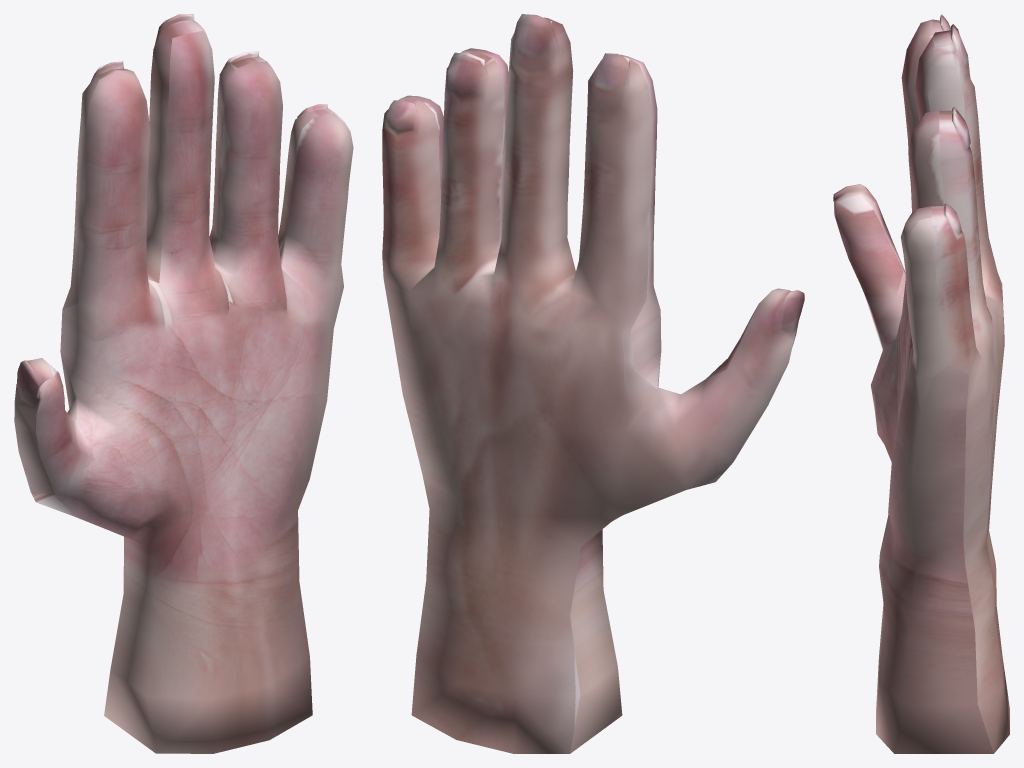
Rendered from Geometry+Normal+UV.obj.
3 renders of one model, left to right at view 1: azimuth 30°, elevation 25°; view 2: azimuth 150°, elevation 25°; view 3: azimuth 270°, elevation 25°, orthographic. The views are drawn at different scales.
Parts seen in each view (by area): view 1: hand_texture.obj; view 2: hand_texture.obj; view 3: hand_texture.obj.
Boxes of the visible parts, box(x1,y1,x2,y2) form: hand_texture.obj: box(14, 14, 353, 753); hand_texture.obj: box(382, 14, 804, 753); hand_texture.obj: box(833, 14, 1009, 753).
Size of the model in its own units: 0.1299 by 0.2413 by 0.0566.
